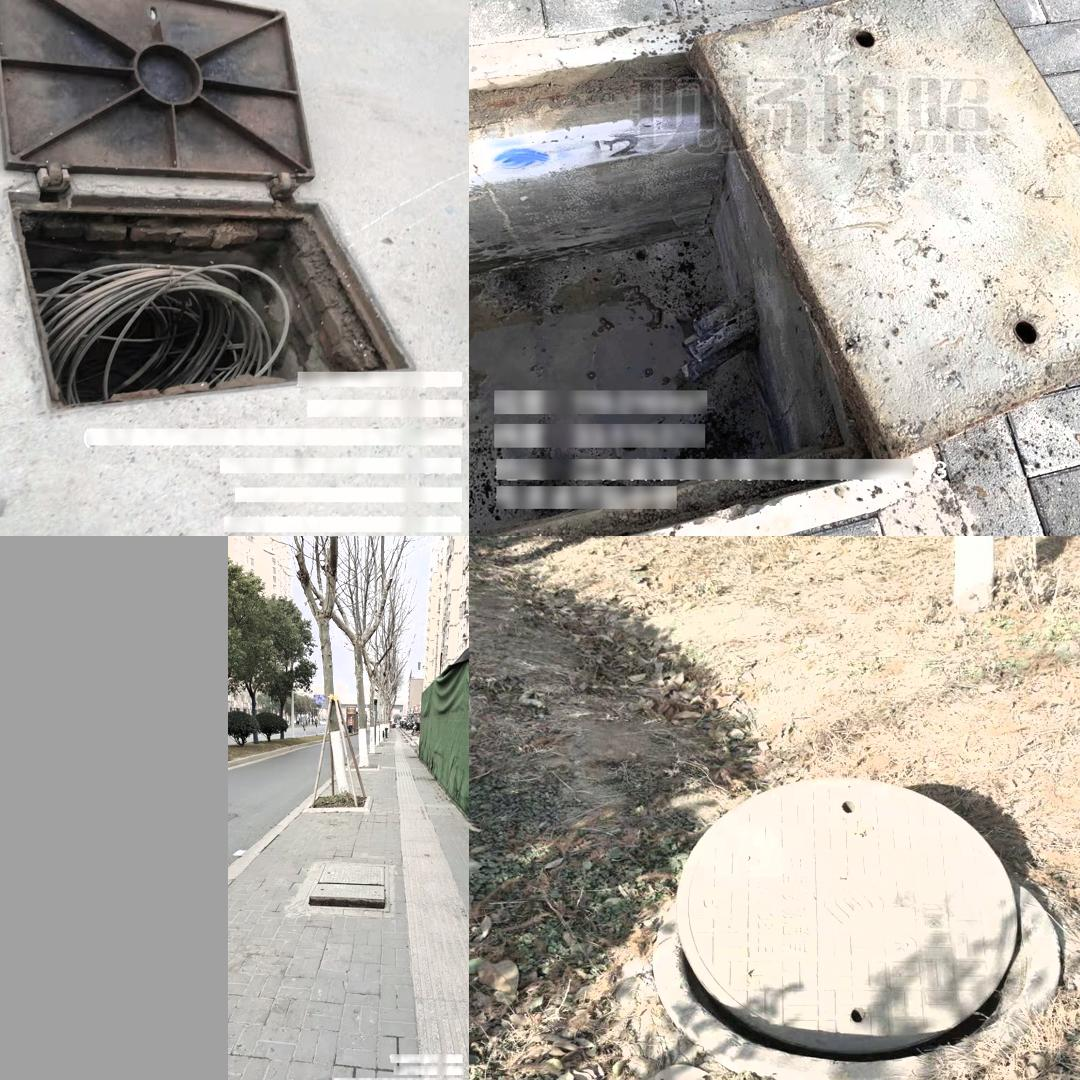uncovered: (472, 0, 1080, 520), (0, 0, 408, 415), (663, 773, 1037, 1057), (302, 859, 388, 912)
